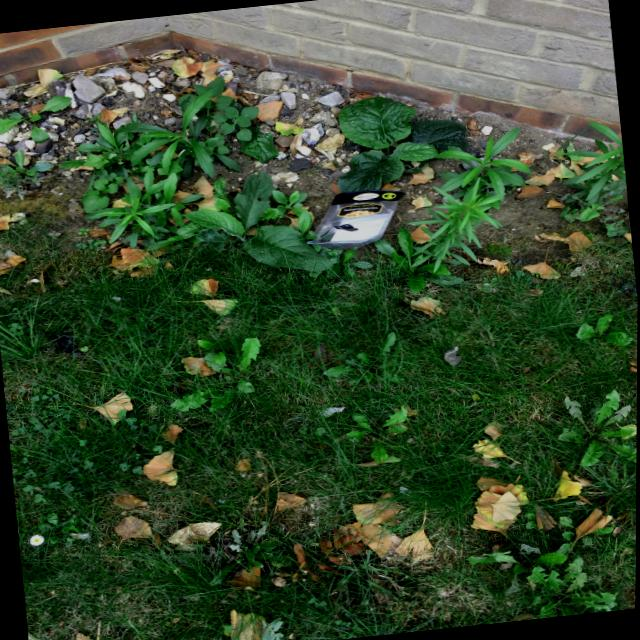Plastic: (297, 182, 419, 257)
